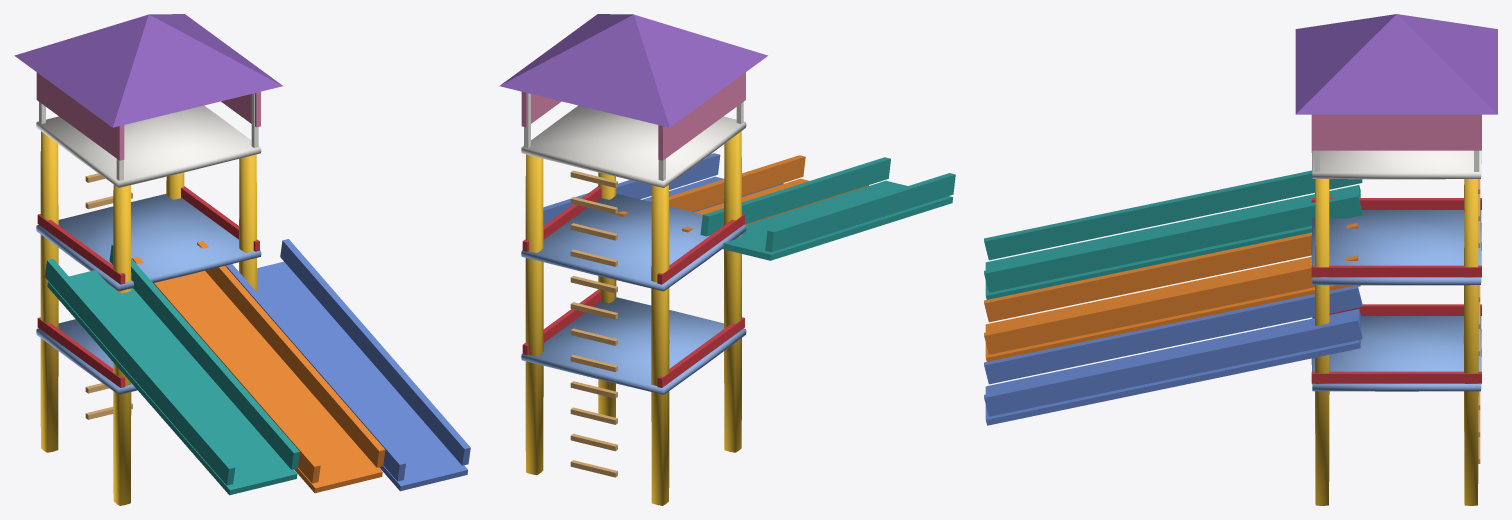
File: water_slide_tower.glb
3 renders of one model, left to right at view 1: azimuth 30°, elevation 25°; view 2: azimuth 150°, elevation 25°; view 3: azimuth 270°, elevation 25°, orthographic. The views are drawn at different scales.
Parts seen in each view (by area): view 1: root; view 2: root; view 3: root.
Part boxes in pixels (x1,y1,x2,y2): root: [14, 14, 470, 505]; root: [499, 14, 955, 505]; root: [984, 14, 1497, 505].
Bounding box in the file's own units: 2.69 × 4.75 × 4.83.
